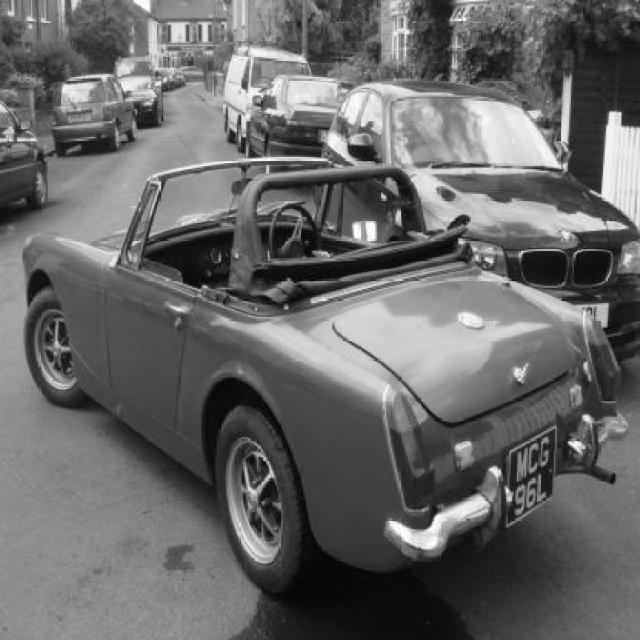car: (14, 154, 626, 600), (343, 78, 640, 350), (245, 72, 343, 140), (55, 76, 137, 152), (123, 61, 165, 117)
license-plate: (497, 432, 560, 528)
